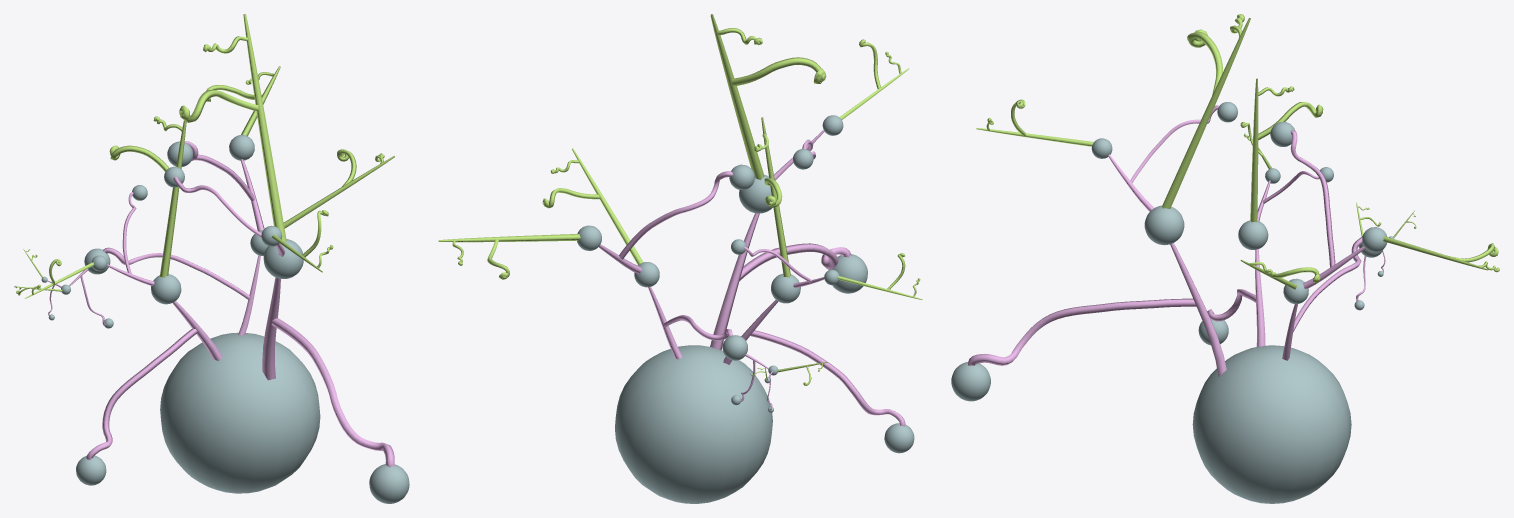
Rendered from alienPlant.fbx.
3 views of the same model, side by side, from view 1: azimuth 30°, elevation 25°; view 2: azimuth 150°, elevation 25°; view 3: azimuth 270°, elevation 25° (orthographic).
Parts seen in each view (by area): view 1: swirlSmall2Main8; view 2: swirlSmall2Main8; view 3: swirlSmall2Main8.
Part boxes in pixels (x1,y1,x2,y2): swirlSmall2Main8: (14,14,409,503); swirlSmall2Main8: (438,14,922,503); swirlSmall2Main8: (951,14,1499,503).
Bounding box in the file's own units: 3.43 × 4.24 × 4.44.
